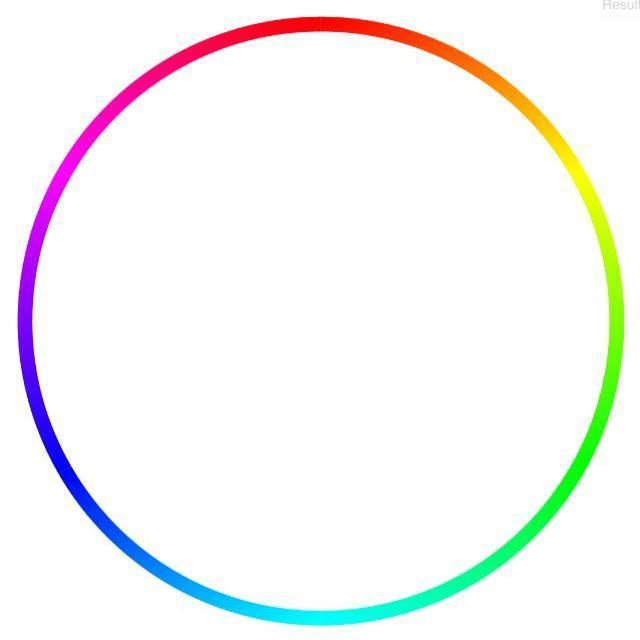Circle: (16, 14, 624, 629)
